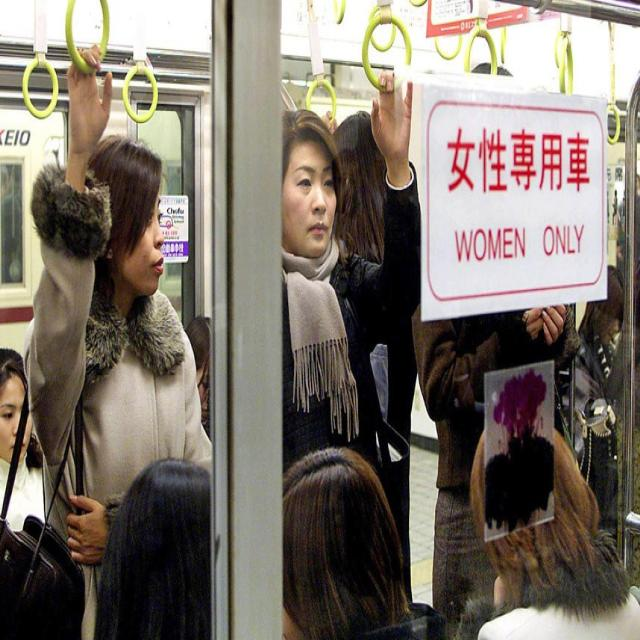body: (19, 43, 216, 640), (408, 60, 580, 635), (94, 455, 418, 639), (282, 67, 424, 472), (455, 425, 640, 640), (328, 107, 419, 446), (570, 263, 626, 543), (0, 346, 46, 533), (179, 308, 219, 448), (605, 167, 639, 331)
